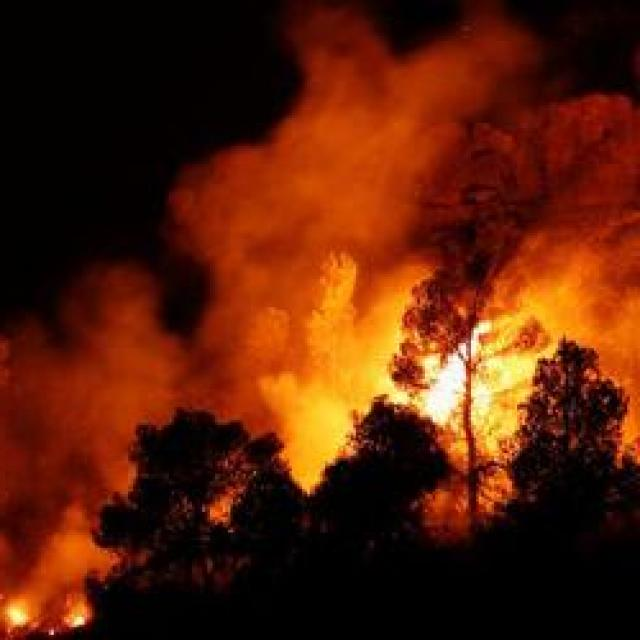fire: (416, 342, 472, 436)
smoke: (159, 4, 534, 272), (0, 265, 179, 586), (516, 87, 640, 344), (250, 242, 376, 452)
